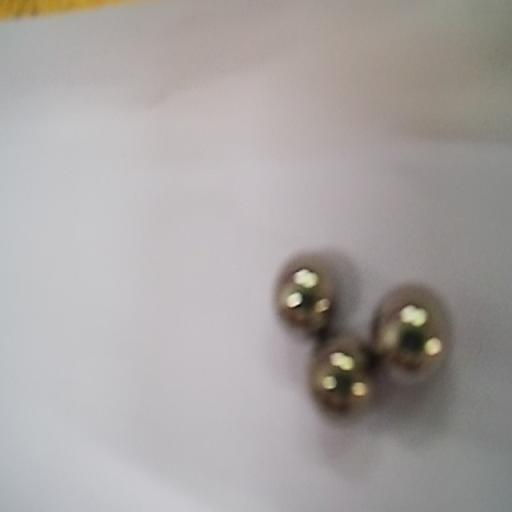steel-ball: (367, 269, 454, 385), (292, 333, 374, 420), (262, 244, 339, 336)
